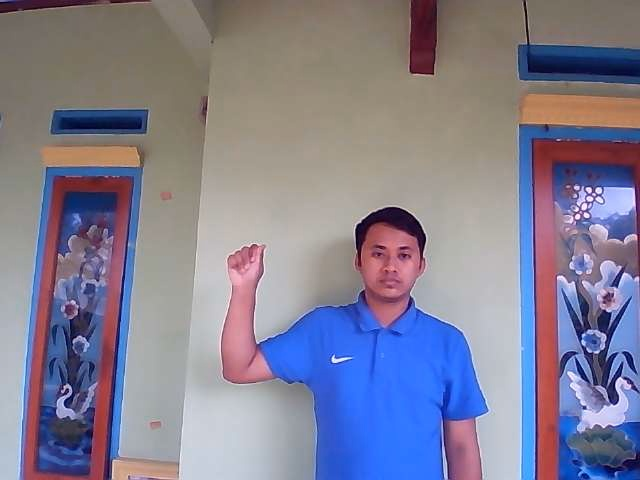A: (226, 244, 265, 288)
